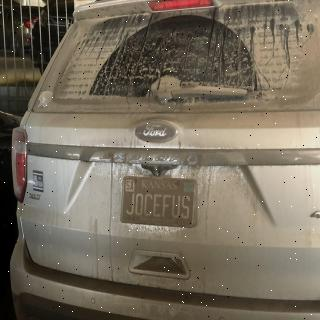license: (121, 177, 198, 230)
